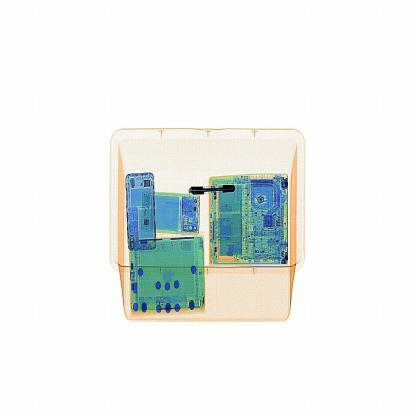knife: (189, 182, 235, 198)
